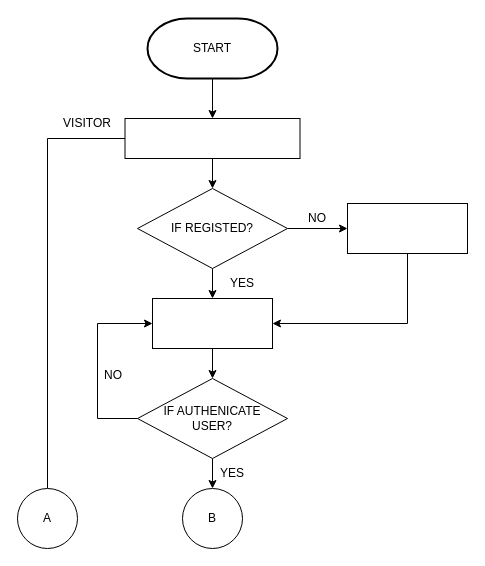
Image size: 485x566. Some labels were removed from this diagram. The centre of each missing label's shape, as x and y in pixels:
"LOGIN" goes at point (212, 323).
"REGISTRATION" goes at point (407, 228).
"VIEW WEBSITE" goes at point (212, 138).
